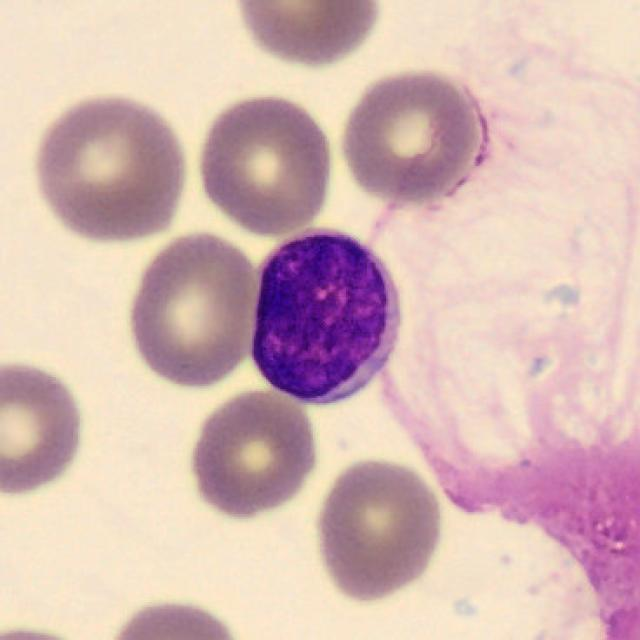Linfocito: (250, 230, 398, 406)
